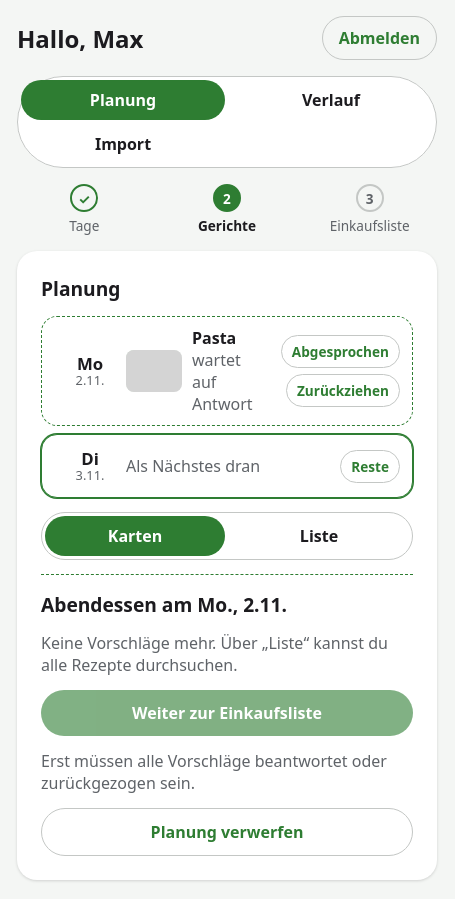
Test: choosing a dinner for the next open day › lets a member settle a waiting dish with "Abgesprochen" when the two agreed in the room
Click the button "Abgesprochen".
click(340, 352)  # box [281, 335, 400, 368]
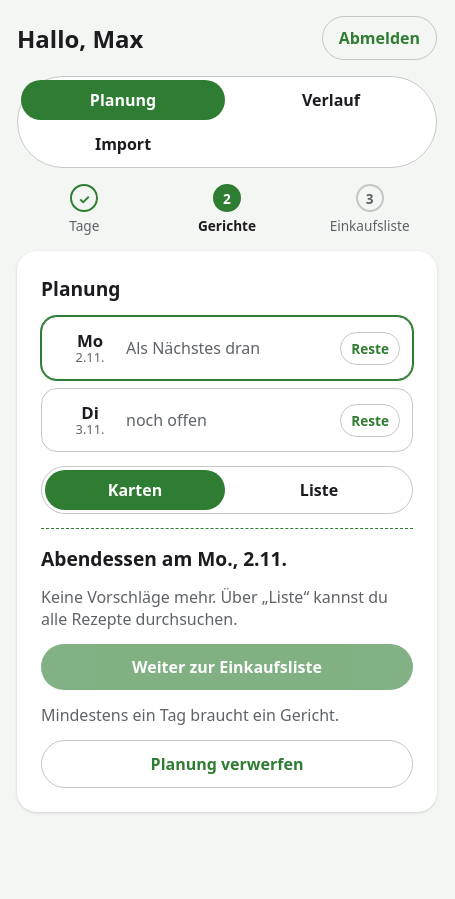
Result: the button "Abgesprochen" is gone
